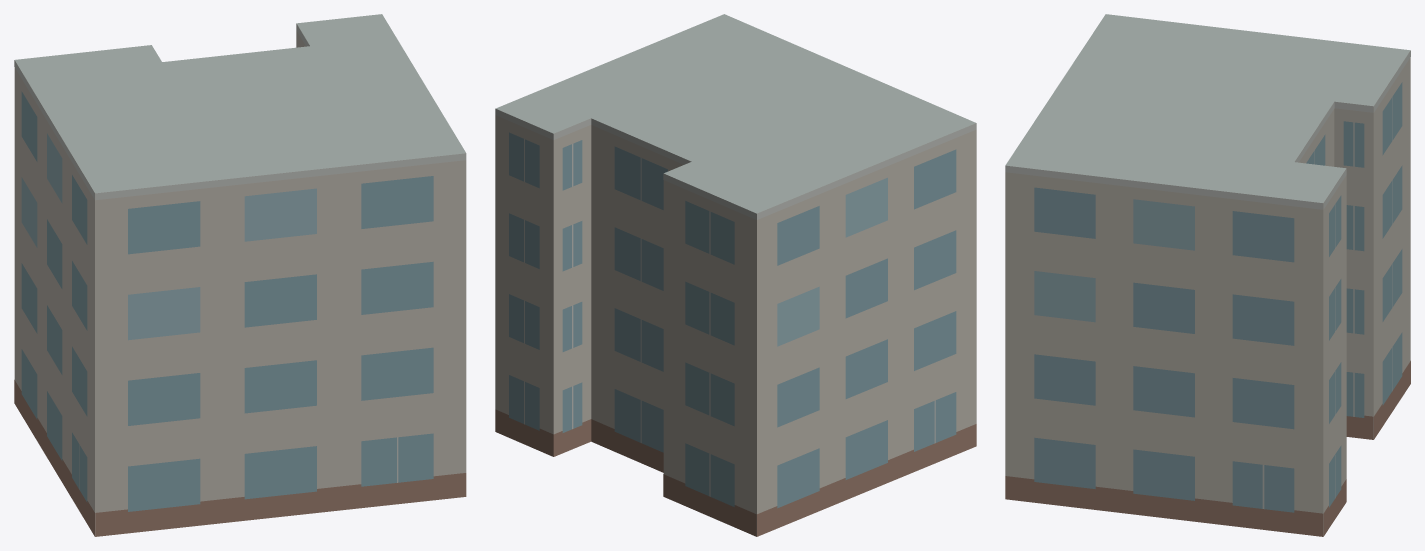
The model's file is residential-4bdea425-9ff3-48fc-b80d-48929bcb0002.glb.
The picture shows the model from 3 angles, left to right: view 1: azimuth 30°, elevation 25°; view 2: azimuth 150°, elevation 25°; view 3: azimuth 270°, elevation 25°; orthographic projection. The views are drawn at different scales.
Visible parts, largest first — view 1: residential-4bdea425-9ff3-48fc-b80d-48929bcb0002.tmp; view 2: residential-4bdea425-9ff3-48fc-b80d-48929bcb0002.tmp; view 3: residential-4bdea425-9ff3-48fc-b80d-48929bcb0002.tmp.
Part boxes in pixels (x1=…): residential-4bdea425-9ff3-48fc-b80d-48929bcb0002.tmp: x1=14, y1=14, x2=466, y2=536; residential-4bdea425-9ff3-48fc-b80d-48929bcb0002.tmp: x1=495, y1=14, x2=976, y2=536; residential-4bdea425-9ff3-48fc-b80d-48929bcb0002.tmp: x1=1005, y1=14, x2=1410, y2=536.
Size of the model in its own units: 14.85 by 12.2 by 13.45.
